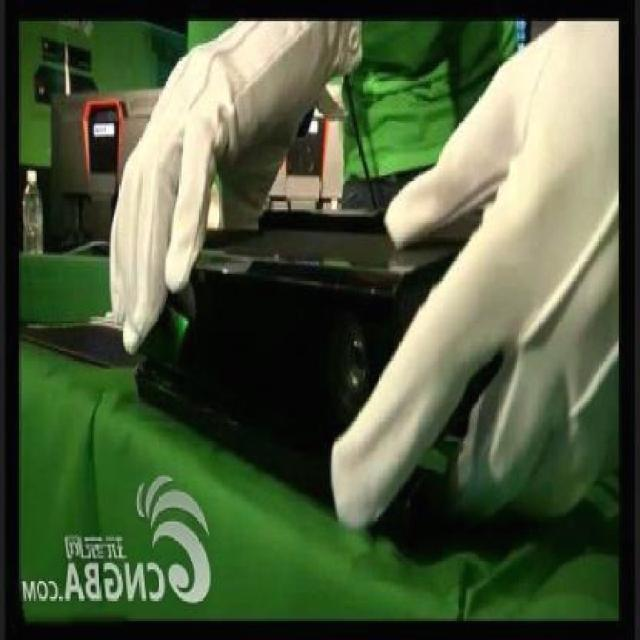hand_glove: (332, 18, 619, 536), (108, 18, 324, 353)
